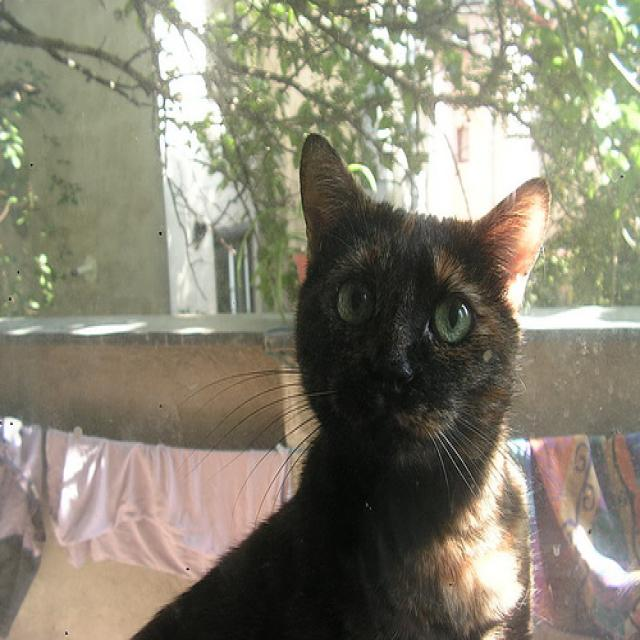left eye: (430, 290, 475, 345)
